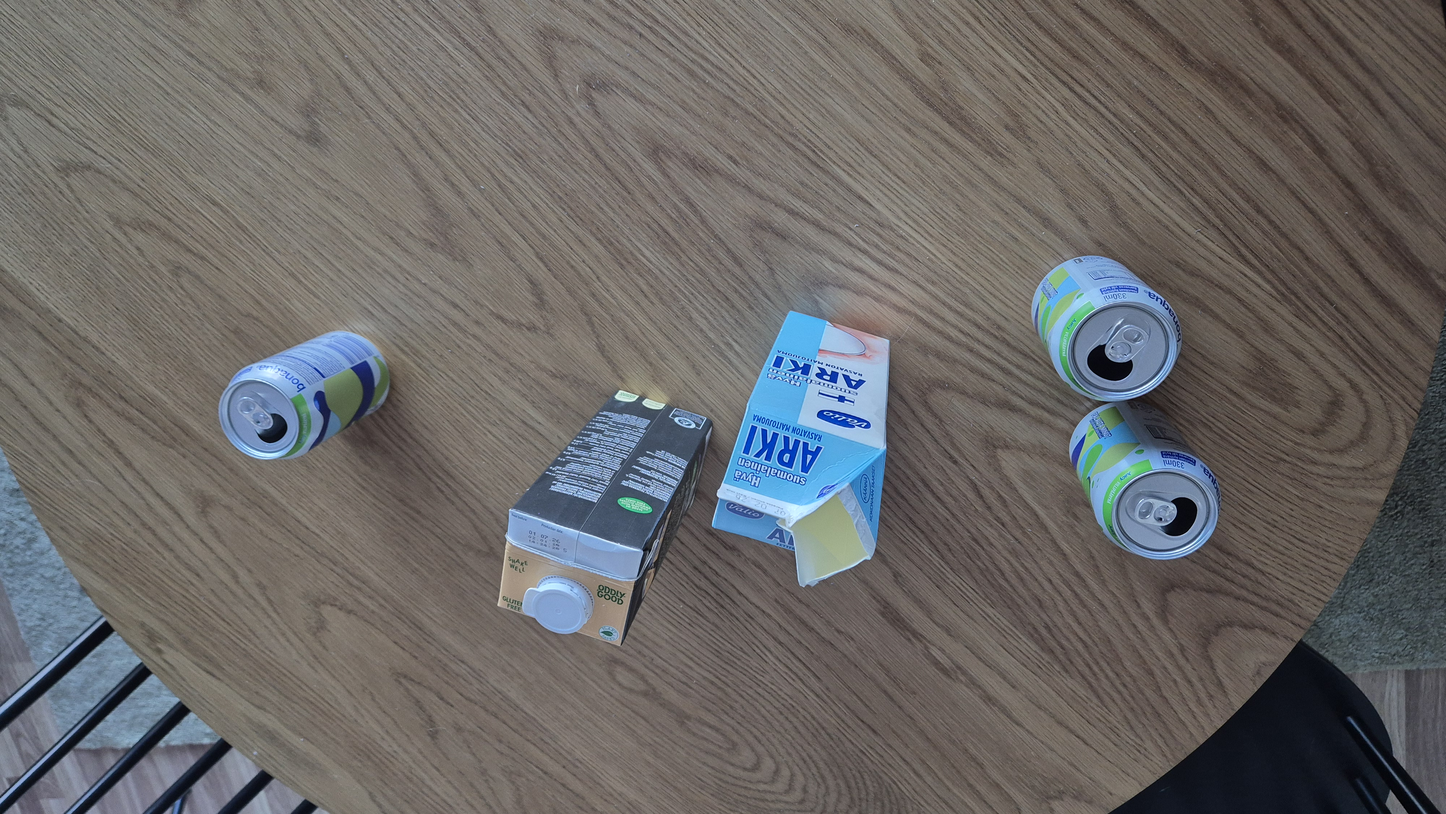Dryckeskartong: (497, 389, 713, 647), (712, 311, 889, 587), (1069, 403, 1222, 561)
Pantburk: (1030, 255, 1182, 402), (218, 331, 389, 461)
